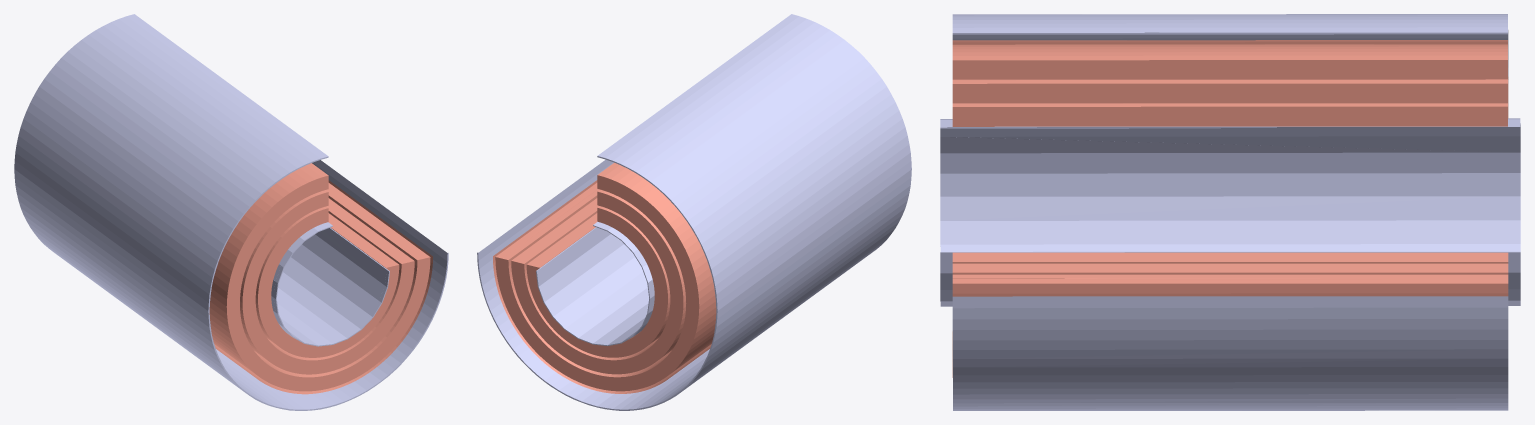
File: SCT-BAR-cut3-transformed.glb
The picture shows the model from 3 angles, left to right: view 1: azimuth 30°, elevation 25°; view 2: azimuth 150°, elevation 25°; view 3: azimuth 270°, elevation 25°; orthographic projection. The views are drawn at different scales.
Visible parts, largest first — view 1: null; view 2: null; view 3: null.
Part boxes in pixels (<box>): null: <box>14,14,448,410</box>; null: <box>477,14,911,410</box>; null: <box>940,14,1520,410</box>.
Size of the model in its own units: 1.09 by 1.09 by 1.6.
